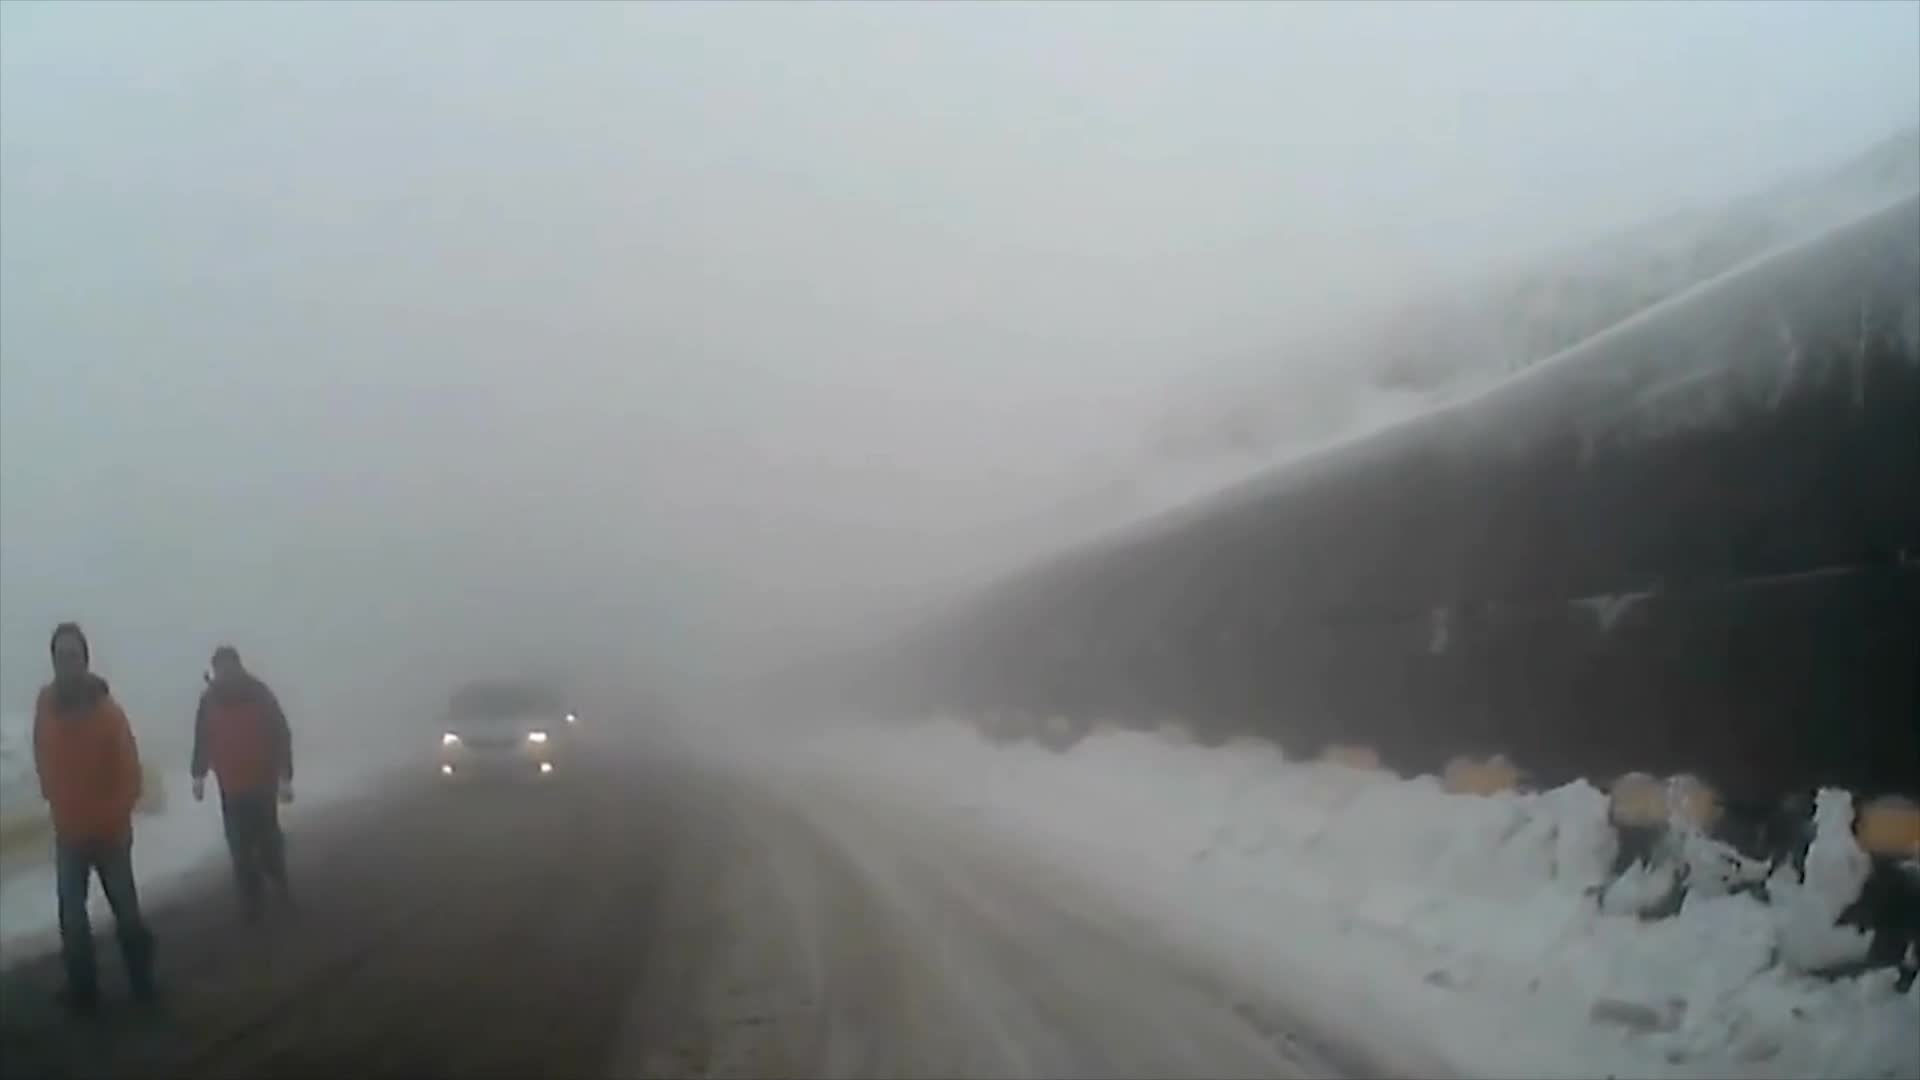pedestrian: (28, 616, 162, 1018), (190, 640, 301, 905)
vehicle: (432, 671, 571, 794)
